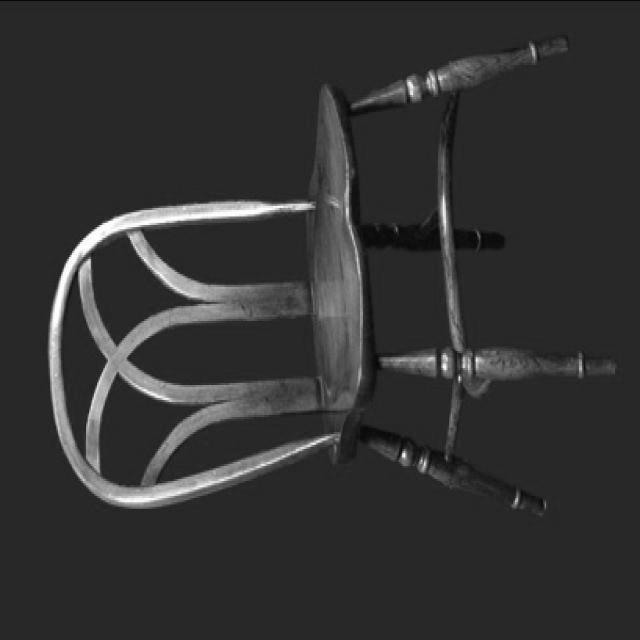chair: (46, 30, 614, 528)
